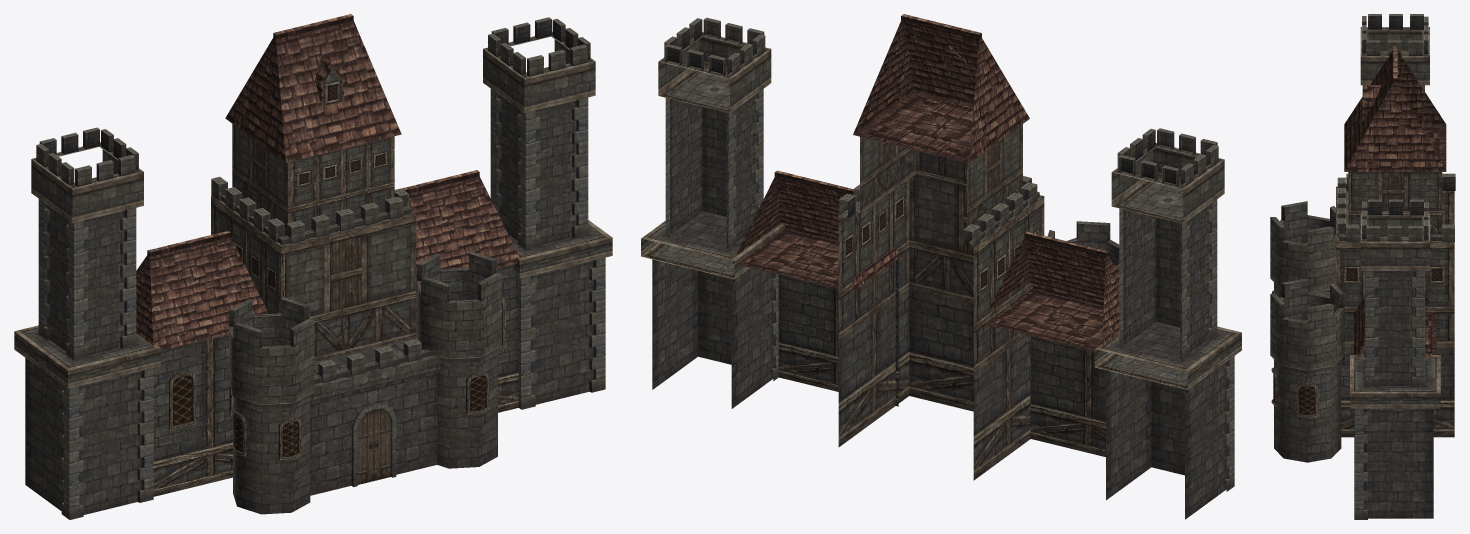
Rendered from SC_yonghengsenlin_01.FBX.
3 renders of one model, left to right at view 1: azimuth 30°, elevation 25°; view 2: azimuth 150°, elevation 25°; view 3: azimuth 270°, elevation 25°, orthographic. The views are drawn at different scales.
Visible parts, largest first — view 1: SC_yonghengsenlin_01; view 2: SC_yonghengsenlin_01; view 3: SC_yonghengsenlin_01.
Boxes of the visible parts, x1,y1,x2,y2 form: SC_yonghengsenlin_01: (14, 14, 612, 519); SC_yonghengsenlin_01: (641, 14, 1241, 519); SC_yonghengsenlin_01: (1270, 14, 1455, 519).
Bounding box in the file's own units: 3350 × 2424 × 1172.
